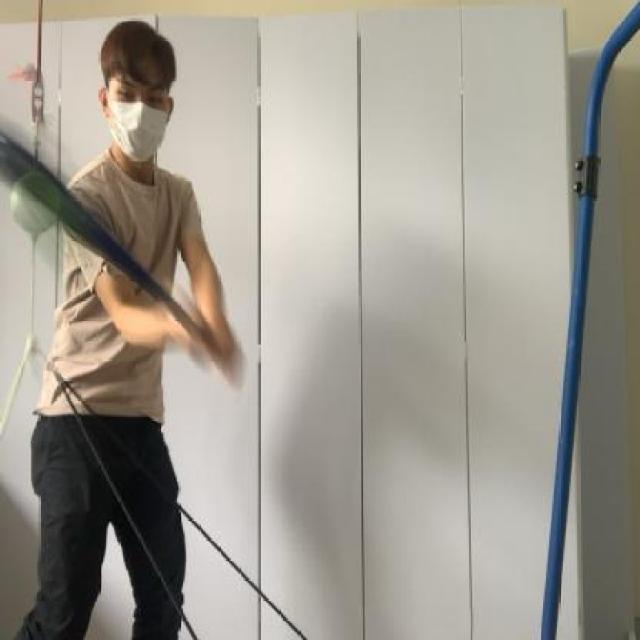baseball: (8, 172, 63, 232)
